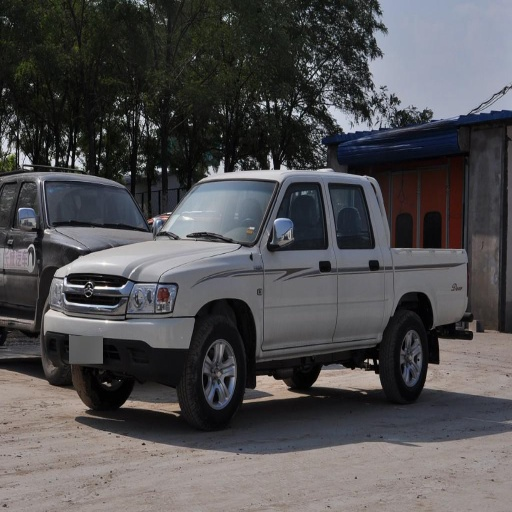front_bumper: (42, 271, 195, 376)
front_glass: (44, 180, 278, 244)
front_left_door: (263, 180, 338, 348)
front_left_light: (128, 283, 176, 314)
trunk: (361, 250, 465, 341)
